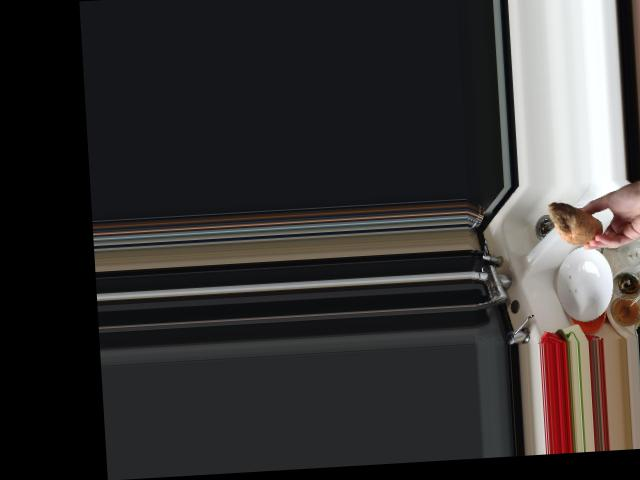sweet_potato: (546, 195, 603, 248)
